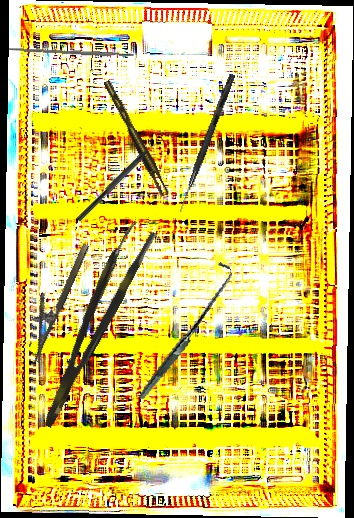Chopper: (76, 135, 166, 228)
Hook Surgical: (112, 260, 257, 400), (177, 72, 236, 214)
Needle Holder: (15, 236, 91, 363)
Scalpel Handle: (8, 46, 135, 59)
Tissue Forceps: (25, 218, 159, 430), (103, 77, 170, 199)
